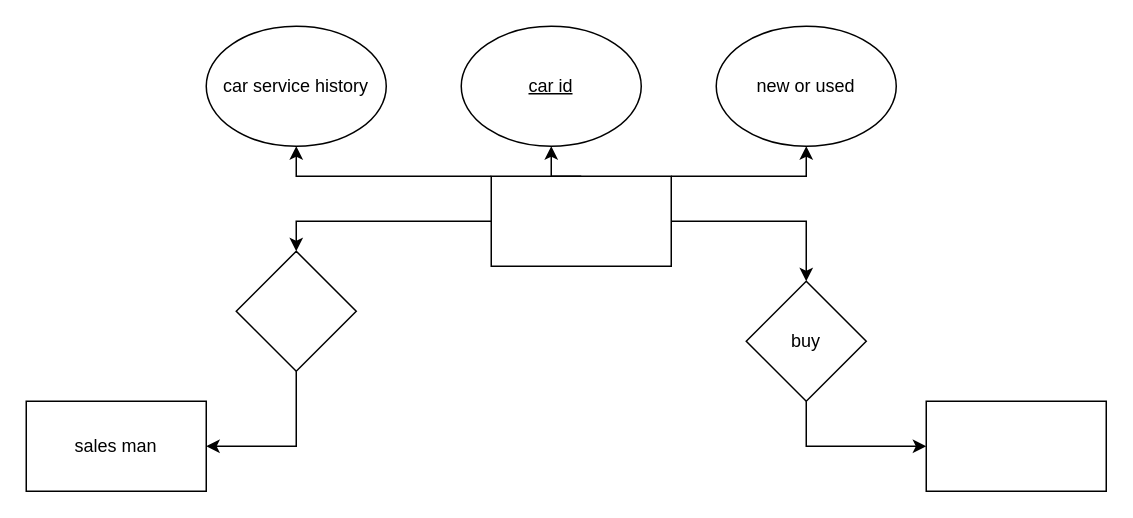
Some shapes in this 1133 by 518 pixel diagram are drawn without their labels. Each missing label, with the centre of its shape:
car: point (580, 220)
customer: point (1015, 445)
sale: point (295, 310)
